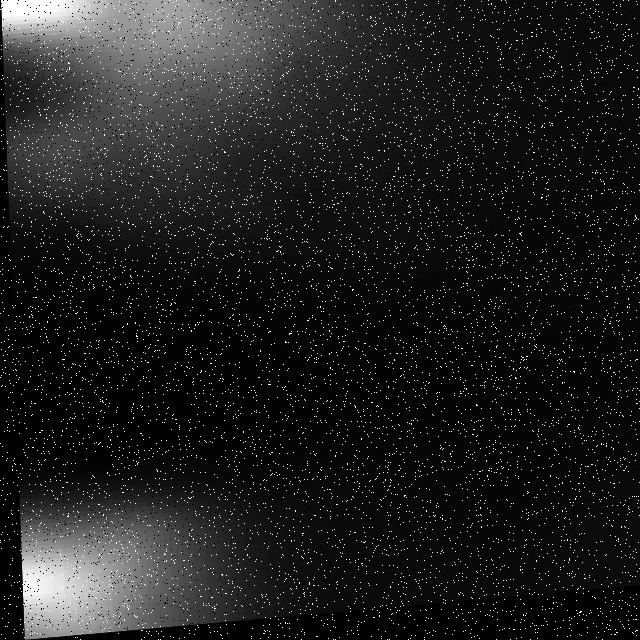person: (4, 55, 491, 339), (15, 454, 381, 640), (1, 1, 521, 128)
